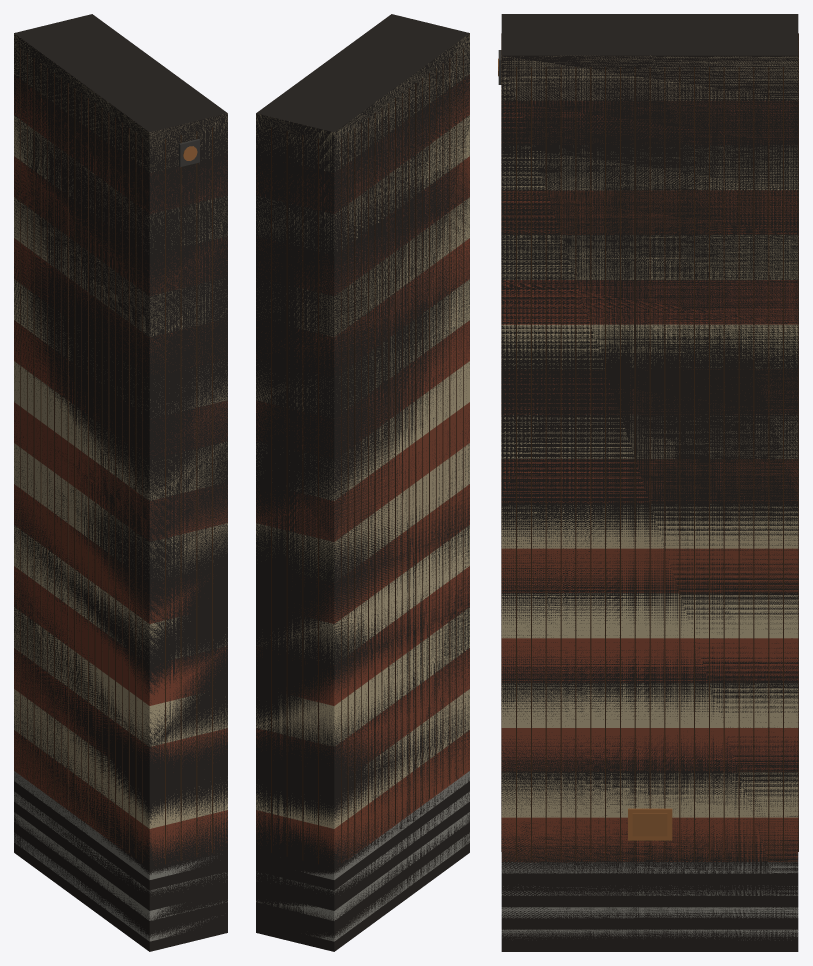
Rendered from survey_mast_40.glb.
3 views of the same model, side by side, from view 1: azimuth 30°, elevation 25°; view 2: azimuth 150°, elevation 25°; view 3: azimuth 270°, elevation 25° (orthographic). The views are drawn at different scales.
Visible parts, largest first — view 1: survey_mast_40-col-col, survey_mast_40_body; view 2: survey_mast_40-col-col, survey_mast_40_body; view 3: survey_mast_40-col-col, survey_mast_40_body.
Boxes of the visible parts, x1,y1,x2,y2 form: survey_mast_40-col-col: [14, 14, 227, 951]; survey_mast_40_body: [14, 34, 227, 941]; survey_mast_40-col-col: [256, 14, 469, 951]; survey_mast_40_body: [256, 34, 469, 941]; survey_mast_40-col-col: [501, 14, 798, 951]; survey_mast_40_body: [498, 33, 798, 940].
Size of the model in its own units: 4.11 by 40 by 12.17.
